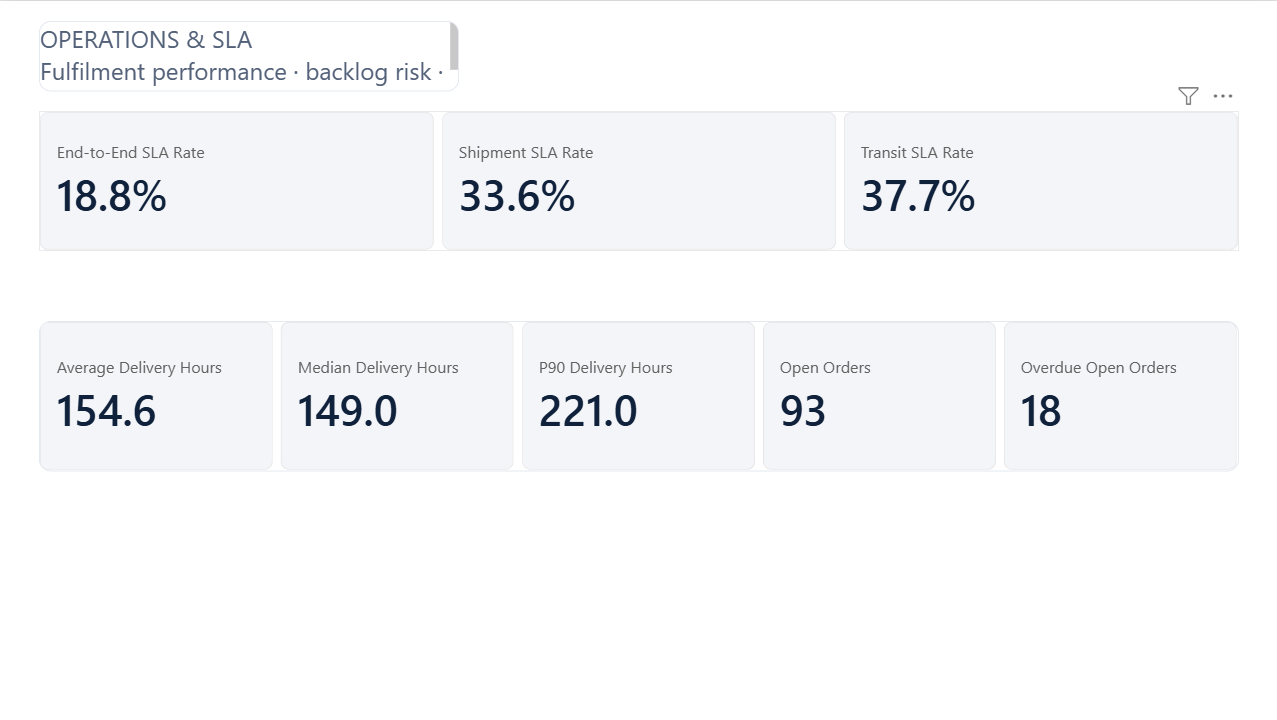

Layout of this report page (visuals, bound fields, positions):
{"tool":"powerbi","page":{"name":"Operations & SLA","canvas":[1280,720],"ordinal":1},"visuals":[{"type":"cardVisual","fields":{"Data":["FactOrder.End-to-End SLA Rate","FactOrder.Shipment SLA Rate","FactOrder.Transit SLA Rate"]},"box":[40,110,1200,140],"z":0},{"type":"textbox","box":[40,20,420,70],"z":1000},{"type":"cardVisual","fields":{"Data":["FactOrder.Average Delivery Hours","FactOrder.Median Delivery Hours","FactOrder.P90 Delivery Hours","FactOrder.Open Orders","FactOrder.Overdue Open Orders"]},"box":[40,320,1200,150],"z":2000}]}

Visuals, with their boxes in screenshot pixels (x1, y1, x2, y2), scaled from the page's 1280x720 canvas onto the 1277x720 screenshot:
cardVisual - FactOrder.End-to-End SLA Rate x FactOrder.Shipment SLA Rate: box=[40, 110, 1237, 250]
textbox: box=[40, 20, 459, 90]
cardVisual - FactOrder.Average Delivery Hours x FactOrder.Median Delivery Hours: box=[40, 320, 1237, 470]
